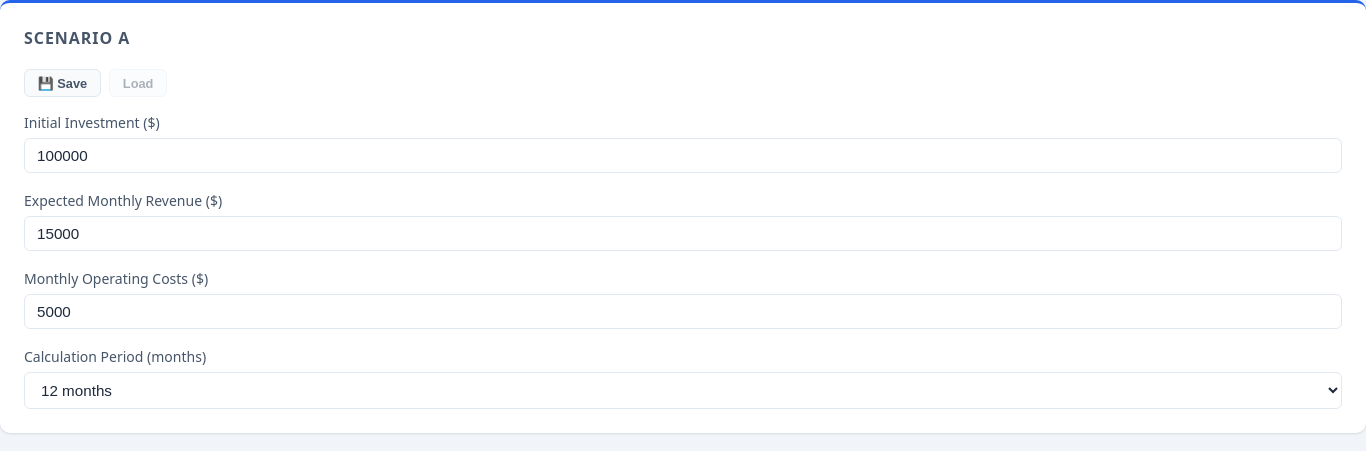
Scenario: InputForm Save/Load › clicking Save enables the Load button
The width and height of the screenshot is (1366, 451).
Expected: the button with aria-label "Load saved Scenario A inputs" is disabled, [109,69,167,97]
Click the button with aria-label "Save Scenario A inputs" at {"x": 62, "y": 83}, box [24,69,101,97]
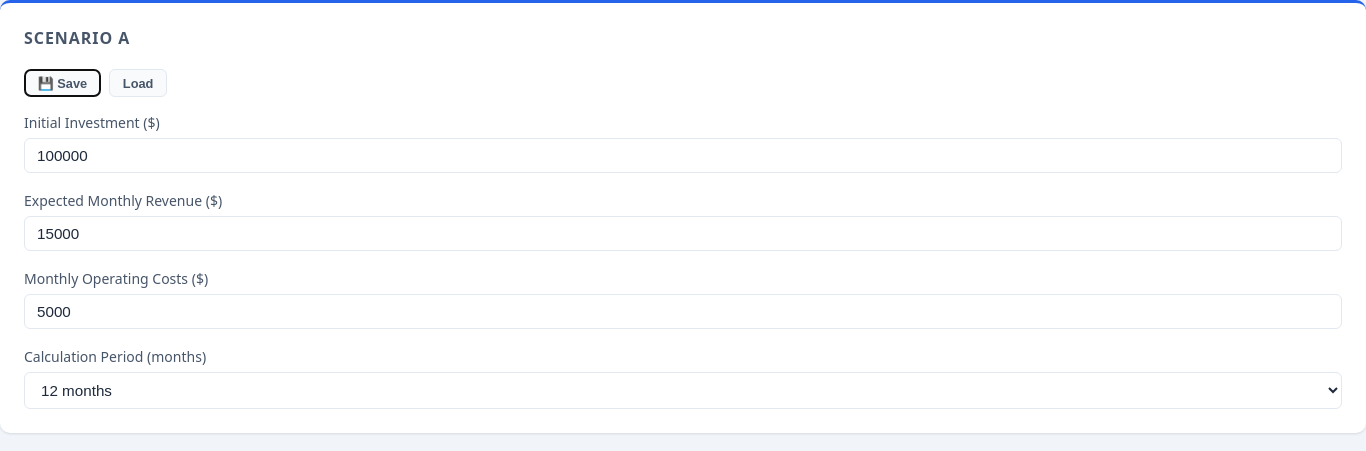
Expected: the button with aria-label "Load saved Scenario A inputs" is enabled, [109,69,167,97]
